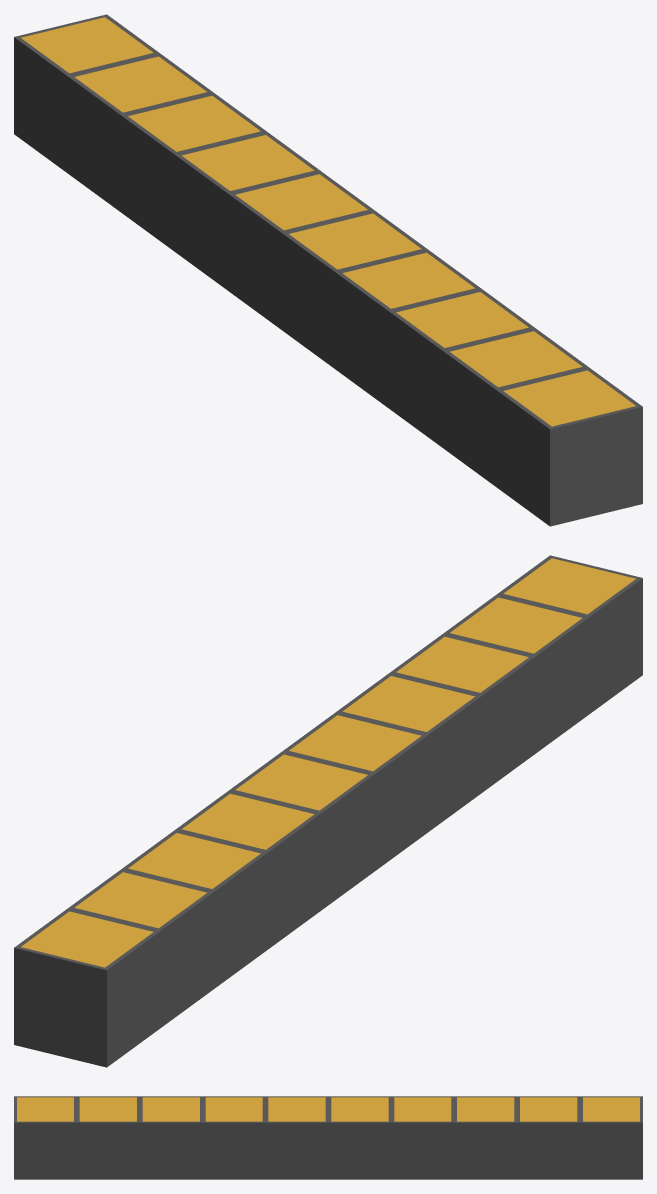
The model's file is puanplatformu.fbx.
The picture shows the model from 3 angles, top to bottom: view 1: azimuth 30°, elevation 25°; view 2: azimuth 150°, elevation 25°; view 3: azimuth 270°, elevation 25°; orthographic projection. The views are drawn at different scales.
Parts seen in each view (by area): view 1: displatform, Cube.001, Cube.005, Cube.009, Cube.006, Cube.007, Cube.003, Cube.004, Cube.008, Cube.010, Cube.002; view 2: displatform, Cube.002, Cube.006, Cube.010, Cube.004, Cube.005, Cube.001, Cube.003, Cube.007, Cube.008, Cube.009; view 3: displatform, Cube.002, Cube.003, Cube.004, Cube.005, Cube.006, Cube.007, Cube.008, Cube.009, Cube.001, Cube.010.
Boxes of the visible parts, bbox=[...] form: displatform: bbox=[14, 14, 642, 526]; Cube.001: bbox=[503, 370, 635, 426]; Cube.005: bbox=[289, 213, 421, 269]; Cube.009: bbox=[74, 56, 206, 112]; Cube.006: bbox=[235, 174, 367, 230]; Cube.007: bbox=[181, 135, 314, 190]; Cube.003: bbox=[396, 292, 528, 347]; Cube.004: bbox=[342, 252, 474, 308]; Cube.008: bbox=[128, 95, 260, 151]; Cube.010: bbox=[21, 17, 153, 73]; Cube.002: bbox=[450, 331, 582, 387]; displatform: bbox=[14, 555, 642, 1067]; Cube.002: bbox=[450, 597, 582, 653]; Cube.006: bbox=[235, 754, 367, 810]; Cube.010: bbox=[21, 911, 153, 967]; Cube.004: bbox=[342, 676, 475, 731]; Cube.005: bbox=[289, 715, 421, 771]; Cube.001: bbox=[503, 558, 635, 614]; Cube.003: bbox=[396, 636, 528, 692]; Cube.007: bbox=[182, 793, 314, 849]; Cube.008: bbox=[128, 833, 260, 888]; Cube.009: bbox=[74, 872, 206, 928]; displatform: bbox=[14, 1096, 642, 1179]; Cube.002: bbox=[79, 1097, 136, 1121]; Cube.003: bbox=[142, 1097, 199, 1121]; Cube.004: bbox=[205, 1097, 262, 1121]; Cube.005: bbox=[268, 1097, 325, 1121]; Cube.006: bbox=[331, 1097, 388, 1121]; Cube.007: bbox=[394, 1097, 451, 1121]; Cube.008: bbox=[457, 1097, 514, 1121]; Cube.009: bbox=[520, 1097, 577, 1121]; Cube.001: bbox=[17, 1097, 73, 1121]; Cube.010: bbox=[583, 1097, 639, 1121].
Size of the model in its own units: 200 by 200 by 2000.
